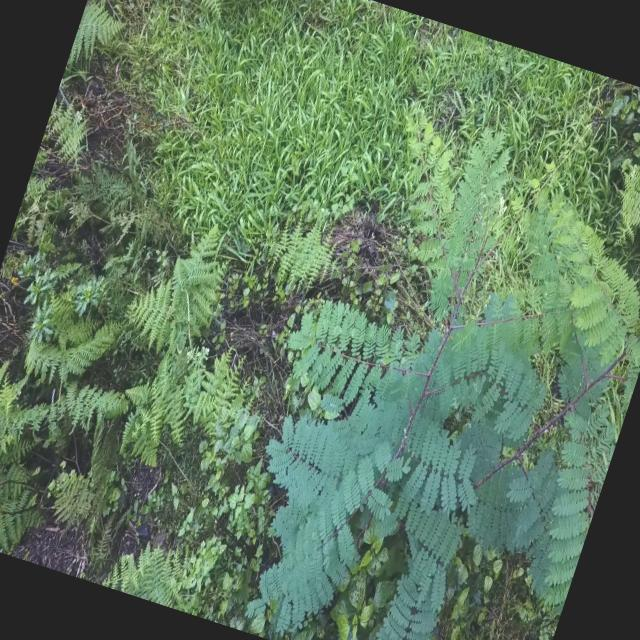Mysore-Thorn-Weed: (198, 72, 640, 640)
